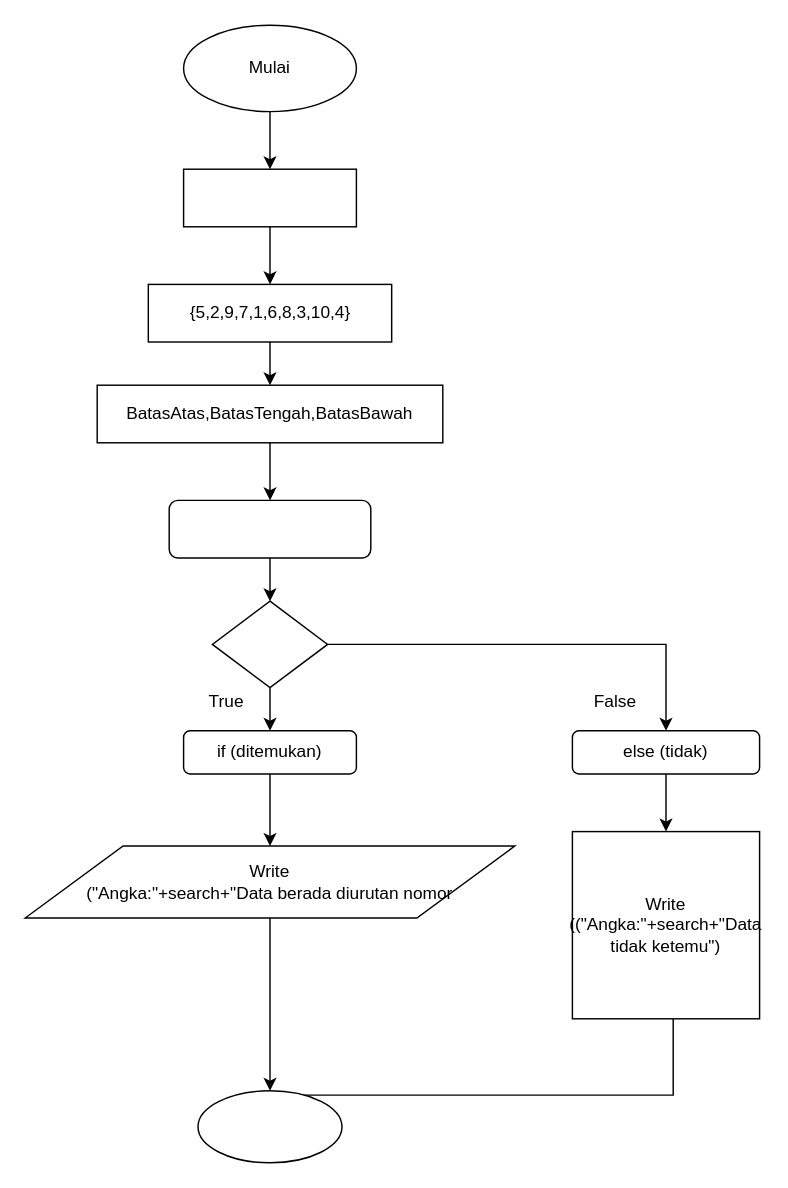
The diagram is 788 pixels wide and 1188 high, and some of its shapes have lost their labels. Here are the shapes that lost their labels. From the top down, the box of each, then its label:
(182, 168, 356, 227): 10 = integer
(168, 499, 371, 558): While batas atas<=batas
(211, 600, 328, 688): B[Bawah]
(197, 1089, 342, 1163): Selesai
